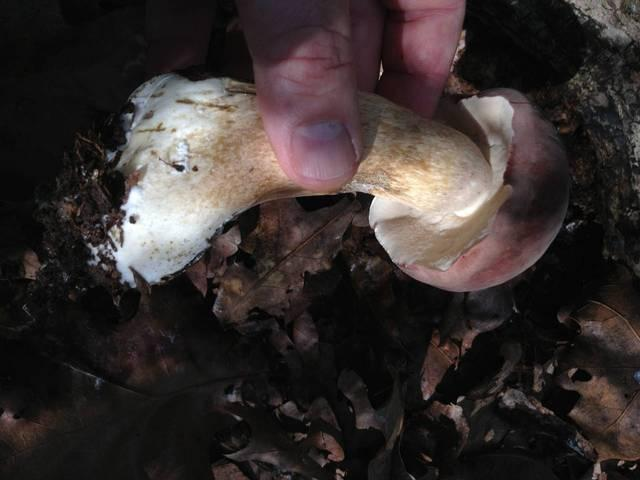poisonous_mushroom: (87, 70, 571, 296)
